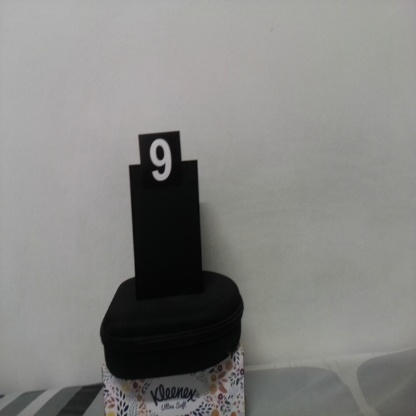id_9: (140, 134, 181, 204)
